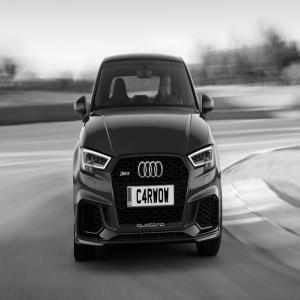Plate: (127, 184, 174, 207)
